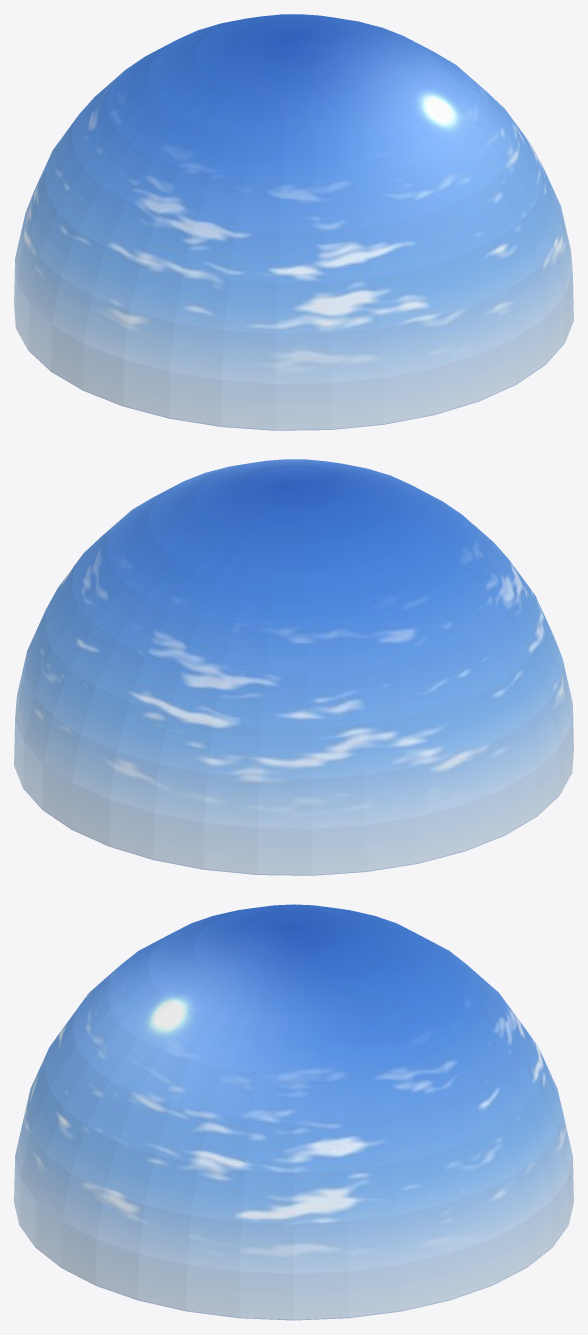
The model's file is lugar-paris-ciudad.glb.
3 views of the same model, one above another, from view 1: azimuth 30°, elevation 25°; view 2: azimuth 150°, elevation 25°; view 3: azimuth 270°, elevation 25° (orthographic).
Visible parts, largest first — view 1: planoC; view 2: planoC; view 3: planoC.
Part boxes in pixels (<box>): planoC: <box>14,14,573,430</box>; planoC: <box>14,459,573,875</box>; planoC: <box>14,904,573,1320</box>.
Bounding box in the file's own units: 6384 × 3423 × 6384.
Materials: 22 (12 with a texture image).
